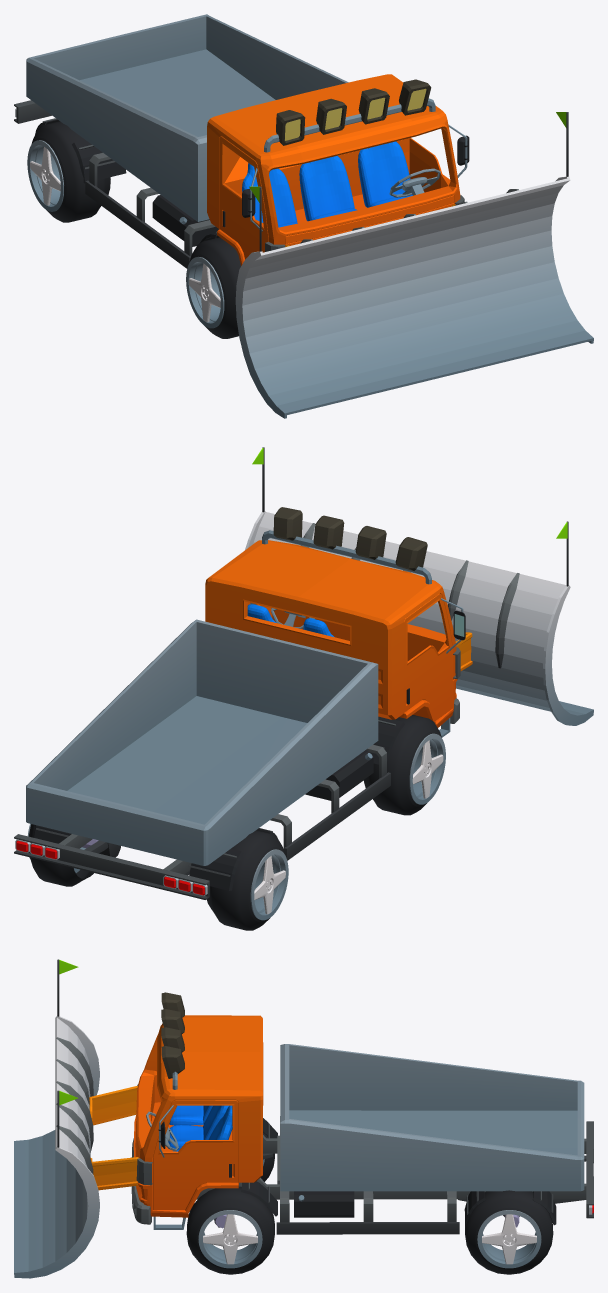
Rendered from Shoveler_Car2 1.fbx.
3 renders of one model, top to bottom at view 1: azimuth 30°, elevation 25°; view 2: azimuth 150°, elevation 25°; view 3: azimuth 270°, elevation 25°, orthographic. The views are drawn at different scales.
Visible parts, largest first — view 1: Car.003, Shoveler.003, Wheel.009, Wheel.008; view 2: Car.003, Shoveler.003, Wheel.009, Wheel.008, Wheel.002; view 3: Car.003, Shoveler.003, Wheel.003, Wheel.002.
Boxes of the visible parts, x1,y1,x2,y2 form: Car.003: (14, 14, 469, 268); Shoveler.003: (235, 112, 593, 418); Wheel.009: (27, 121, 110, 222); Wheel.008: (186, 237, 240, 338); Car.003: (14, 507, 472, 899); Shoveler.003: (245, 447, 593, 725); Wheel.009: (206, 830, 288, 930); Wheel.008: (363, 714, 445, 815); Wheel.002: (27, 823, 101, 886); Car.003: (89, 992, 593, 1234); Shoveler.003: (14, 959, 99, 1278); Wheel.003: (186, 1186, 274, 1274); Wheel.002: (465, 1190, 553, 1274).
Bounding box in the file's own units: 580 × 428 × 1076.
